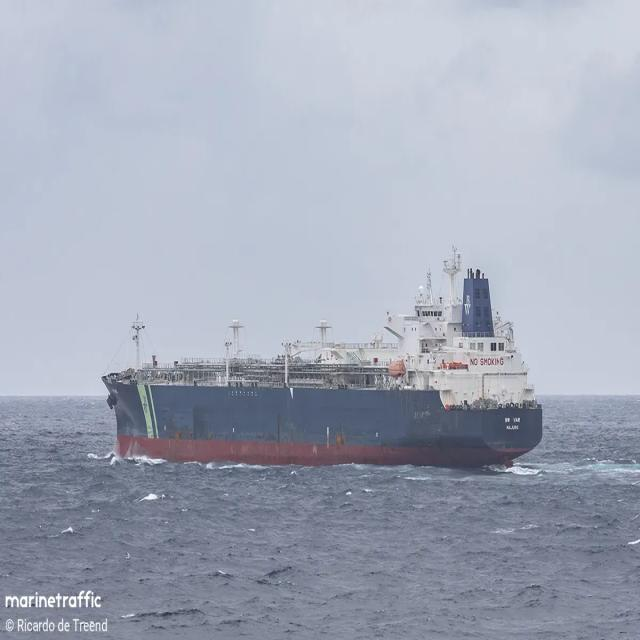Tanker: (102, 251, 542, 467)
